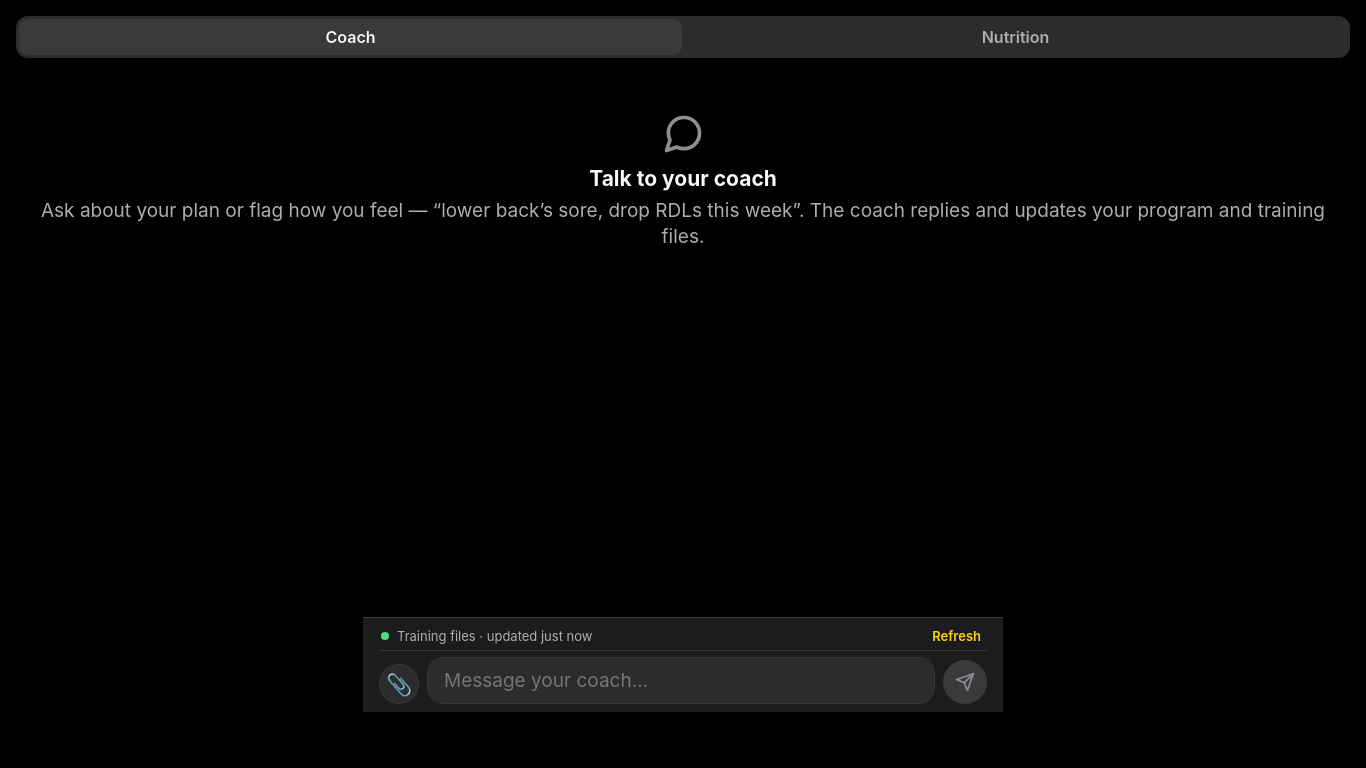
CoachPane — interrupted reply › Dismiss clears the notice and the in-flight record
Type "drop RDLs" into the text box with placeholder "Message your coach…". click: (681, 680)
box: [427,657,935,704]
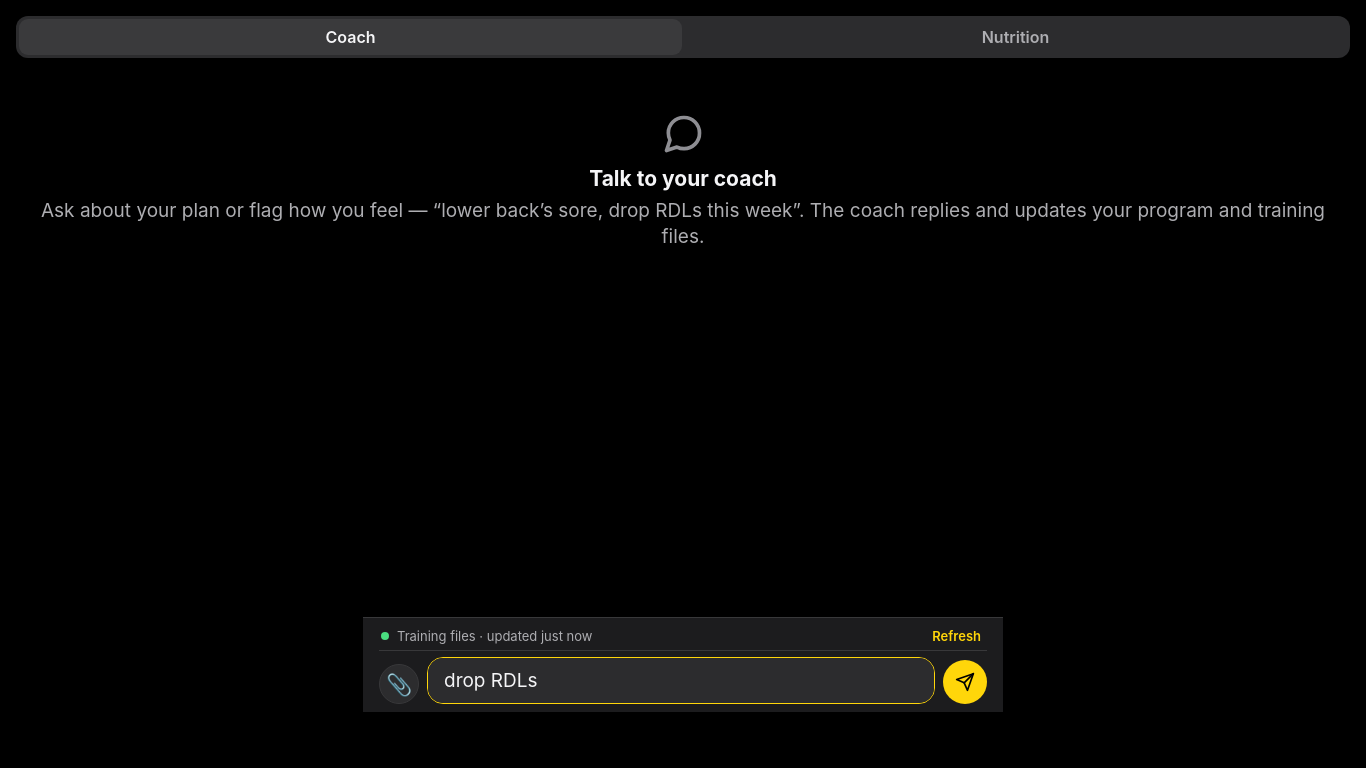
Click the button named "Send message". click: (965, 682)
box: [943,660,987,704]
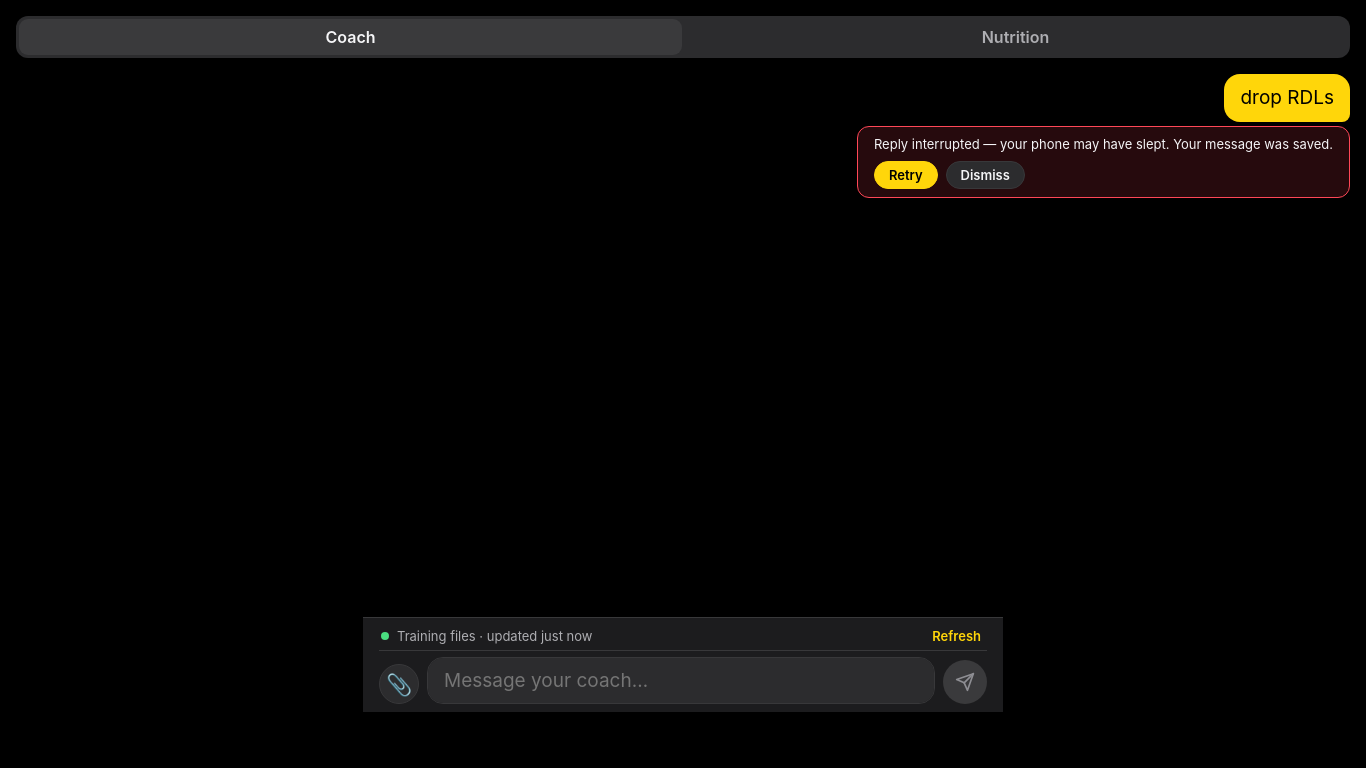
Check: the text "Reply interrupted" is shown, box [874,136,1333,152]
Click the button "Dismiss". click: (985, 175)
box: [946,161,1025,189]
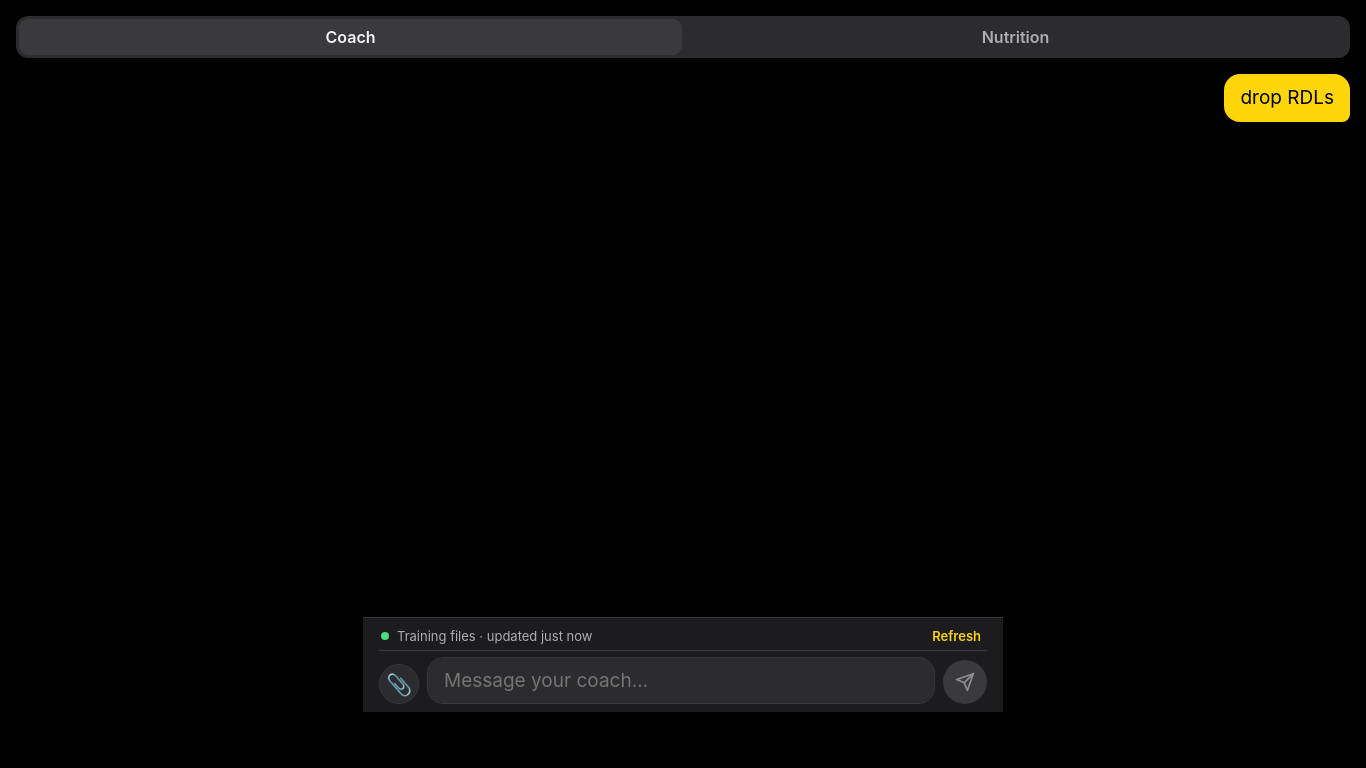
Check: the text "drop RDLs" is shown, box [1224,74,1350,122]
Check: the text "Reply interrupted" is gone
